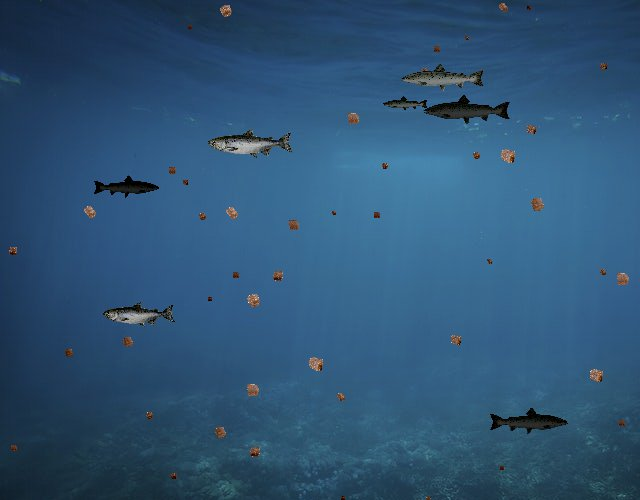Fish: (422, 94, 512, 126), (400, 62, 486, 93), (208, 128, 294, 159), (488, 407, 569, 436), (104, 302, 177, 328), (93, 175, 161, 199), (383, 96, 430, 113)
Pellet: (239, 377, 266, 404), (341, 106, 366, 131), (243, 441, 266, 463), (493, 0, 513, 17), (369, 208, 384, 222), (179, 176, 192, 189), (462, 32, 472, 42), (422, 493, 435, 500)
